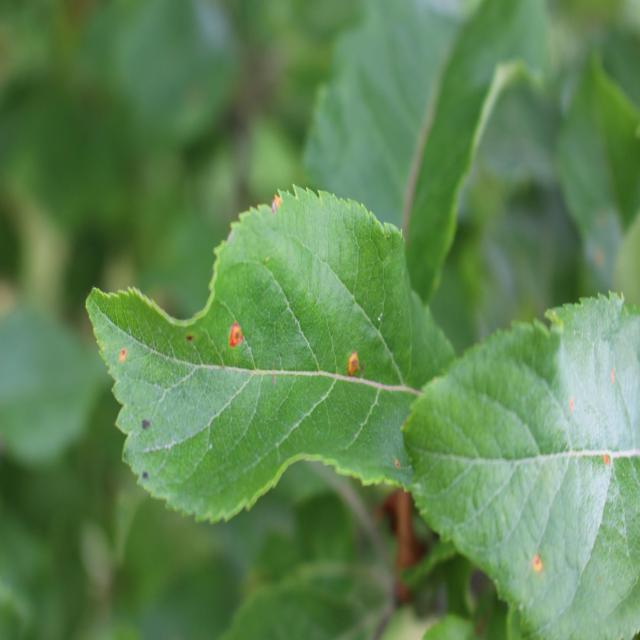Rust: (341, 340, 370, 396), (526, 529, 548, 591), (223, 309, 249, 358), (260, 187, 294, 223), (111, 334, 132, 374), (598, 432, 614, 480), (564, 389, 580, 419), (606, 360, 618, 395)
